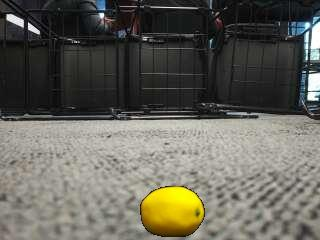lemon: (142, 187, 205, 237)
